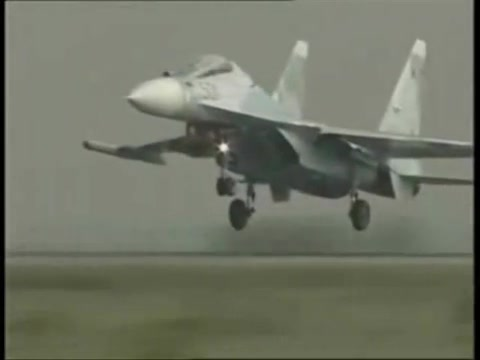aeroplane: (83, 40, 475, 233)
